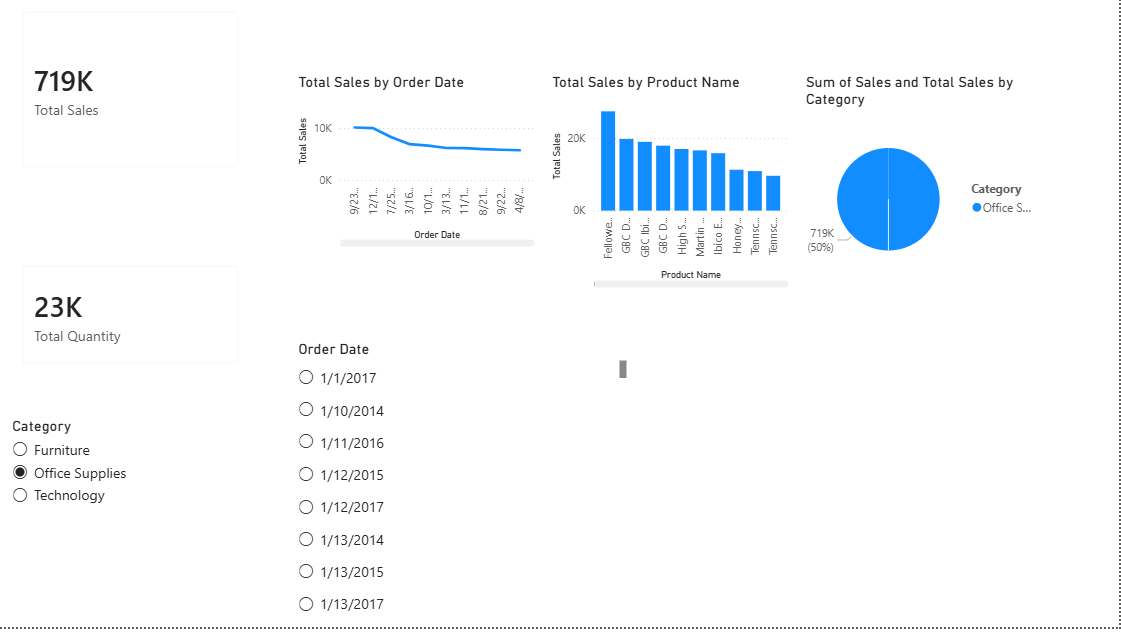

Layout of this report page (visuals, bound fields, positions):
{"tool":"powerbi","page":{"name":"Page 1","canvas":[1280,720],"ordinal":0},"visuals":[{"type":"cardVisual","fields":{"Data":["e commerce dataset (1).Total Sales"]},"box":[10,0,280,211.7],"z":0},{"type":"cardVisual","fields":{"Data":["e commerce dataset (1).Total Quantity"]},"box":[10,290,280,146.7],"z":1000},{"type":"lineChart","fields":{"Category":["e commerce dataset (1).Order Date"],"Y":["e commerce dataset (1).Total Sales"]},"box":[336.7,86.7,280,203.3],"z":2000},{"type":"columnChart","fields":{"Category":["e commerce dataset (1).Product Name"],"Y":["e commerce dataset (1).Total Sales"]},"box":[626.7,86.7,280,250],"z":3000},{"type":"listSlicer","fields":{"Values":["e commerce dataset (1).Category"]},"box":[10,480,368.3,240],"z":4000},{"type":"listSlicer","fields":{"Values":["e commerce dataset (1).Order Date"]},"box":[336.7,391.7,385,328.3],"z":5000},{"type":"pieChart","fields":{"Category":["e commerce dataset (1).Category"],"Y":["Sum(e commerce dataset (1).Sales)","e commerce dataset (1).Total Sales"]},"box":[917,87,280,250],"z":6000}]}

Visuals, with their boxes in screenshot pixels (x1, y1, x2, y2), scaled from the page's 1280x720 canvas onto the 1121x632 screenshot:
cardVisual - e commerce dataset (1).Total Sales: {"left": 9, "top": 0, "right": 254, "bottom": 186}
cardVisual - e commerce dataset (1).Total Quantity: {"left": 9, "top": 255, "right": 254, "bottom": 383}
lineChart - e commerce dataset (1).Order Date x e commerce dataset (1).Total Sales: {"left": 295, "top": 76, "right": 540, "bottom": 255}
columnChart - e commerce dataset (1).Product Name x e commerce dataset (1).Total Sales: {"left": 549, "top": 76, "right": 794, "bottom": 296}
listSlicer - e commerce dataset (1).Category: {"left": 9, "top": 421, "right": 331, "bottom": 631}
listSlicer - e commerce dataset (1).Order Date: {"left": 295, "top": 344, "right": 632, "bottom": 631}
pieChart - e commerce dataset (1).Category x Sum(e commerce dataset (1).Sales): {"left": 803, "top": 76, "right": 1048, "bottom": 296}
